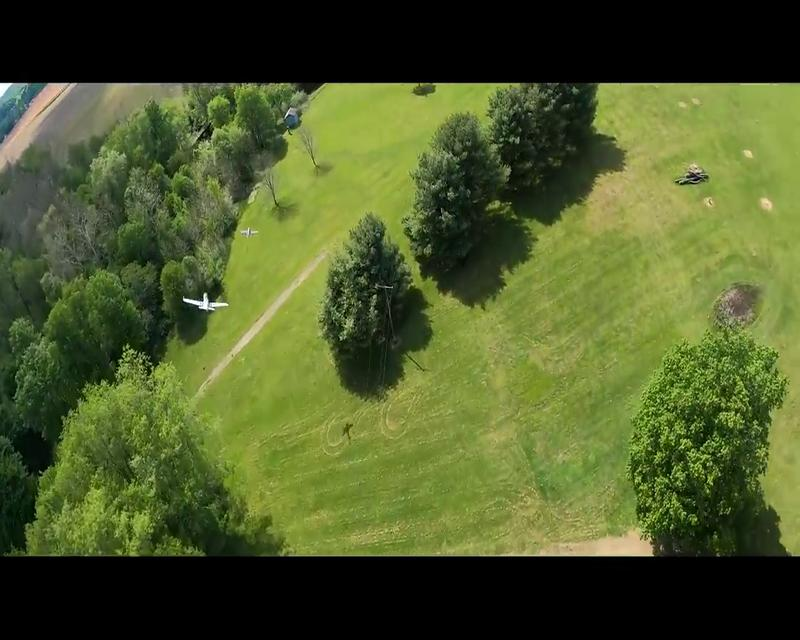UAV: (181, 294, 230, 312), (239, 228, 259, 238)
